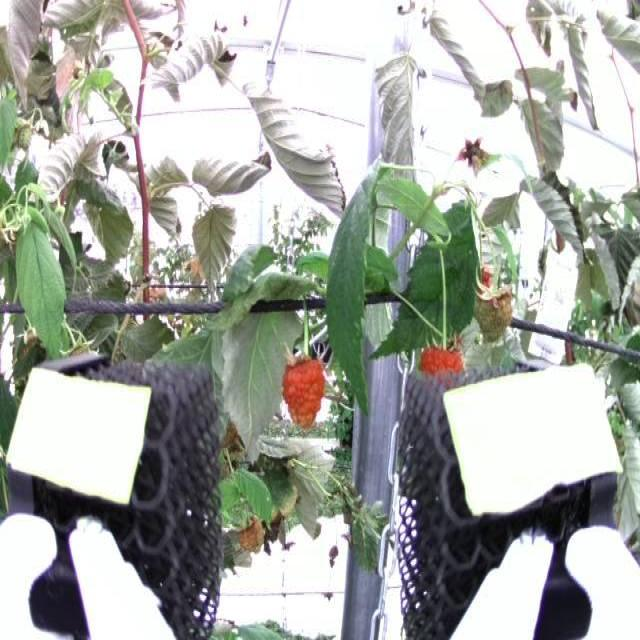Riped berries: (281, 350, 326, 429), (421, 333, 463, 379)
